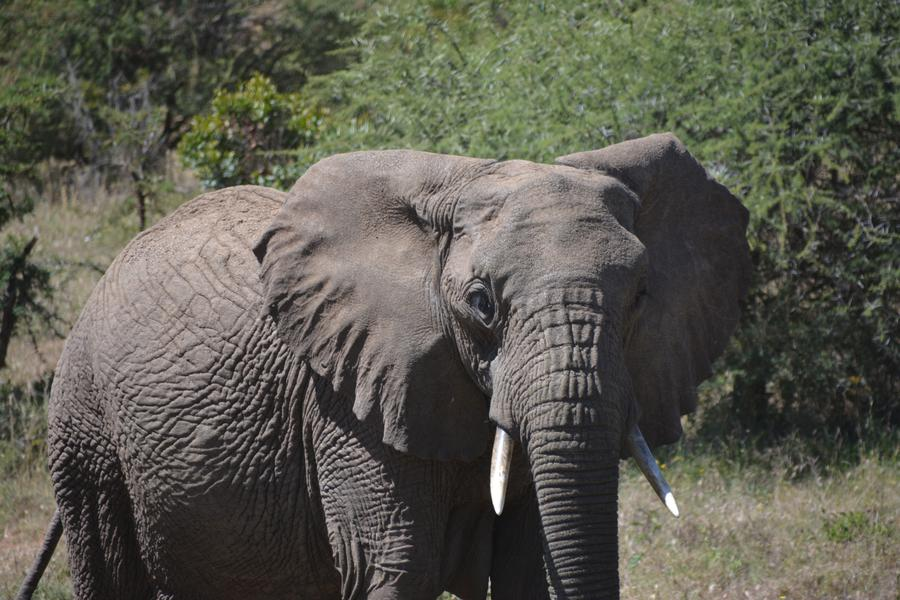elephant: (48, 129, 746, 595)
